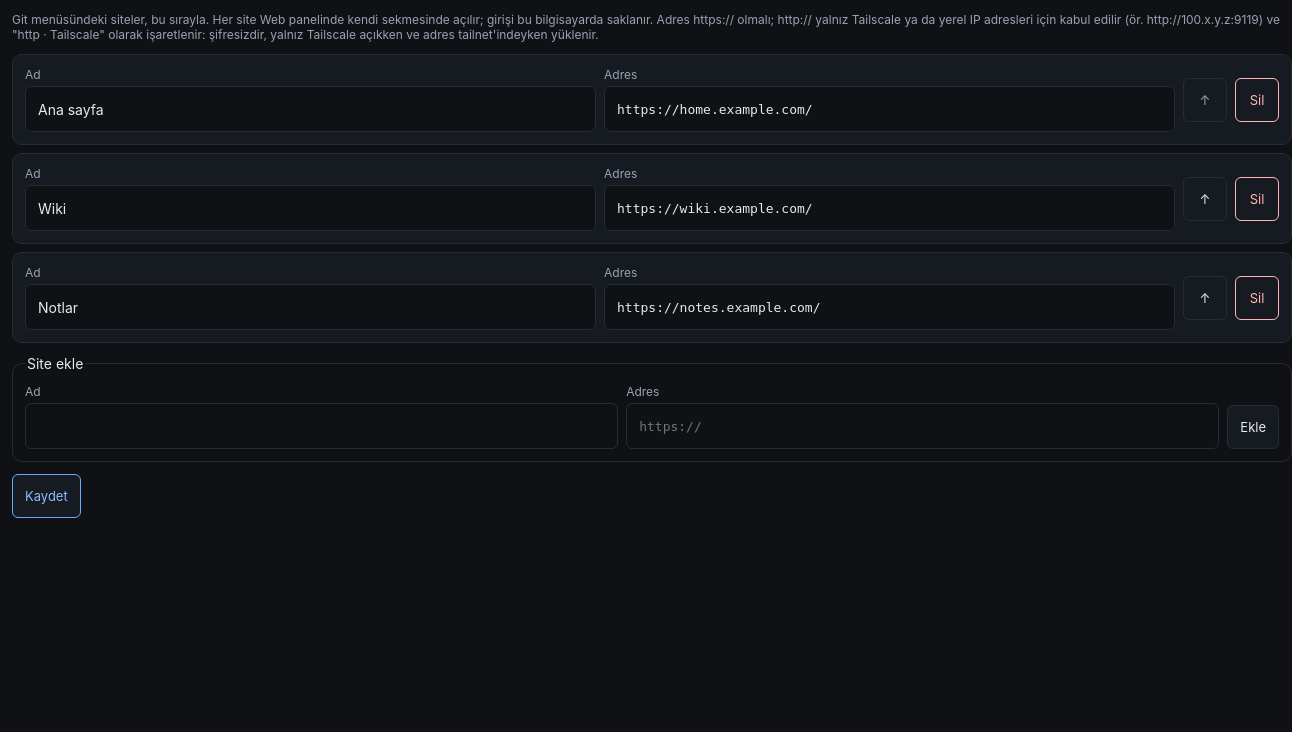
it: Ayarlar › Siteler (İş M) › adds a site (id from its host), edits one, removes one, moves one up, and saves the list
Type "Grafana" into the field labelled "Ad" below "Site ekle" at (322, 426), box x1=25 y1=403 x2=618 y2=449
Type "https://grafana.example.com/" into the 4th field labelled "Adres" at (923, 426), box x1=626 y1=403 x2=1219 y2=449
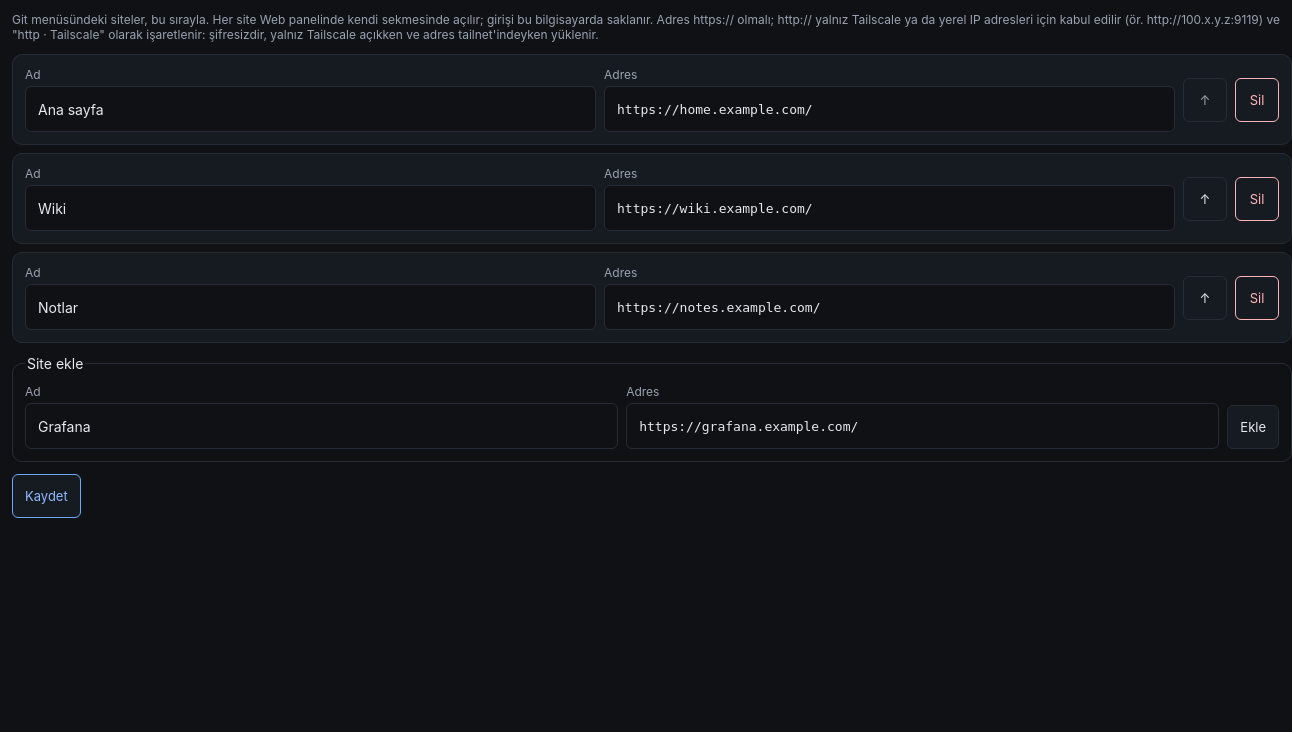
Click the button "Ekle" at (1253, 427), box x1=1227 y1=405 x2=1279 y2=449
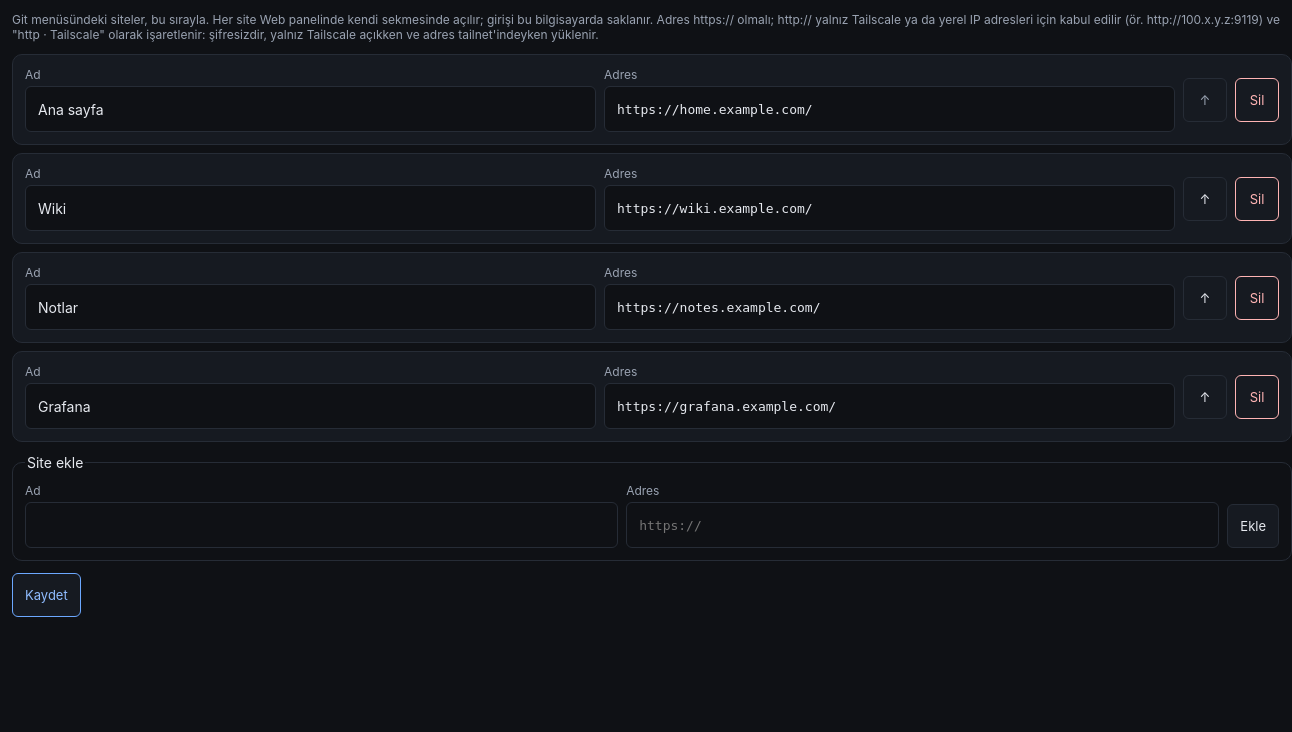
Replace the text in the 2nd field labelled "Ad" with "Bilgi" at (310, 208), box x1=25 y1=185 x2=596 y2=231
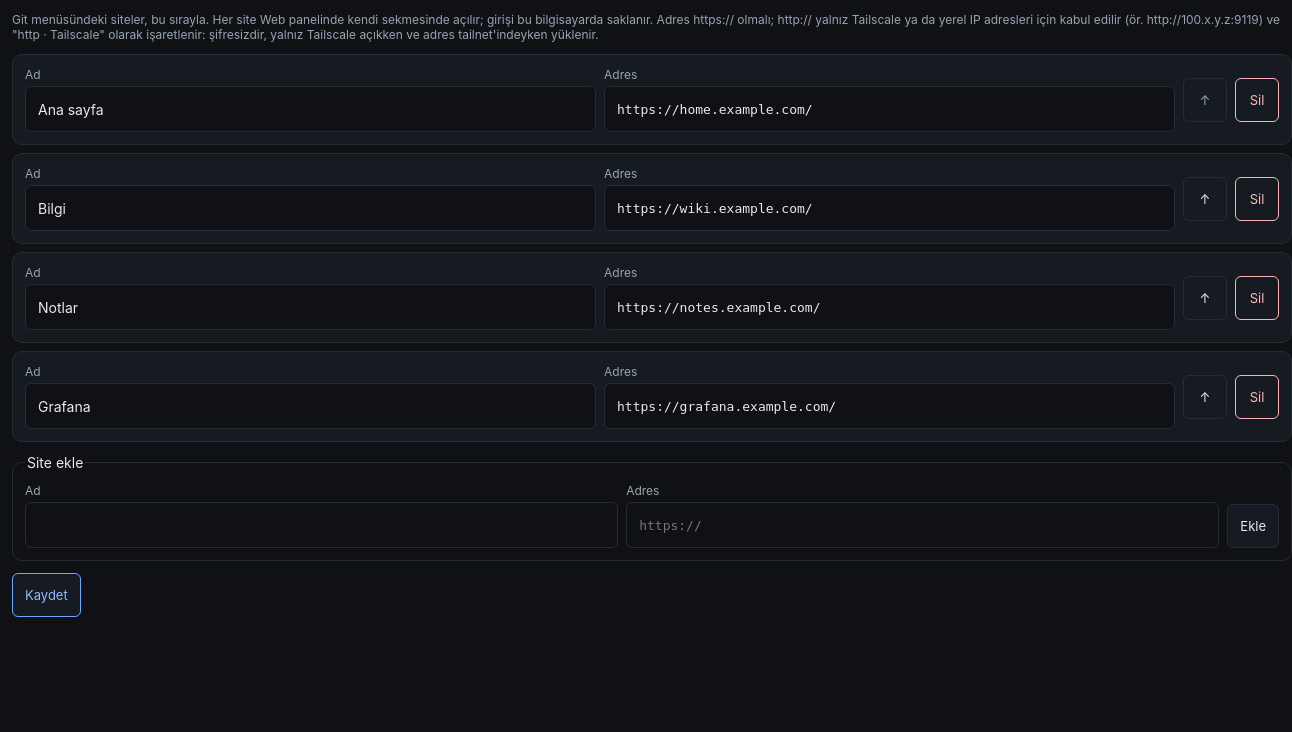
Click the button with aria-label "Sil: Notlar" at (1257, 298), box x1=1235 y1=276 x2=1279 y2=320
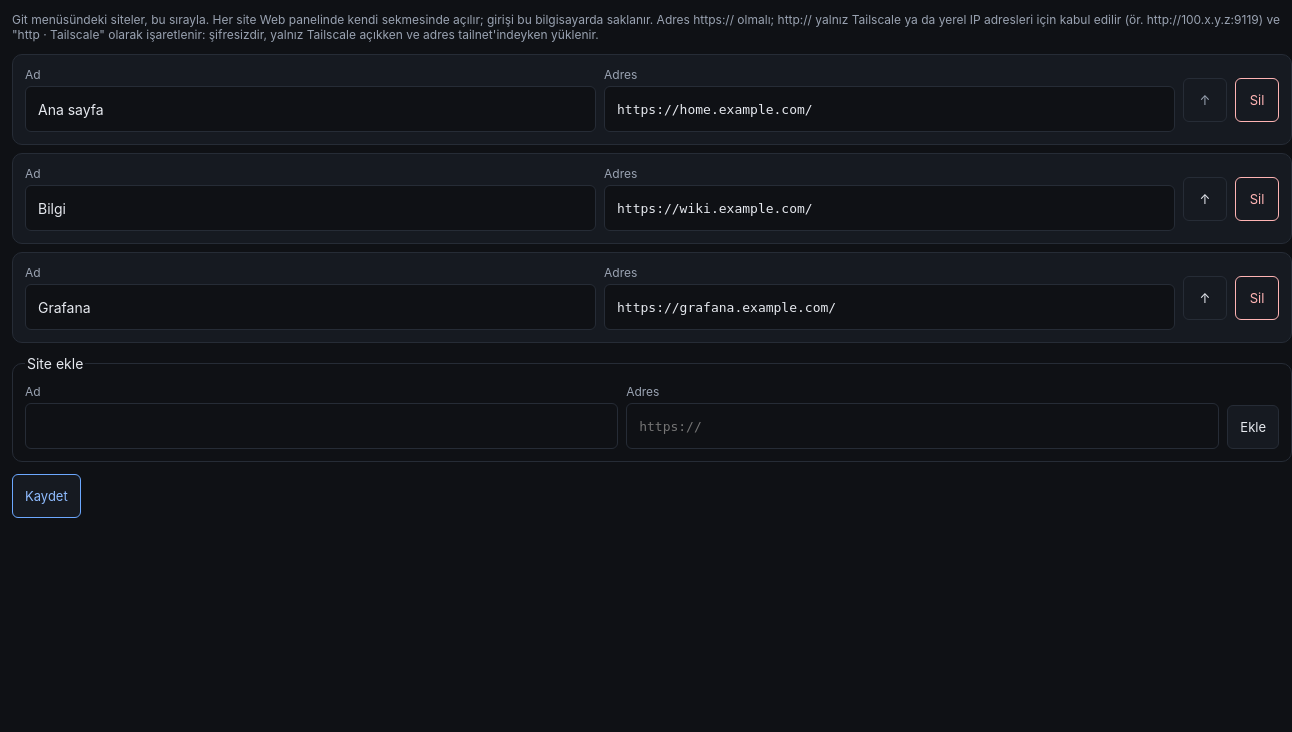
Click the button named "Yukarı: Grafana" at (1205, 298), box x1=1183 y1=276 x2=1227 y2=320
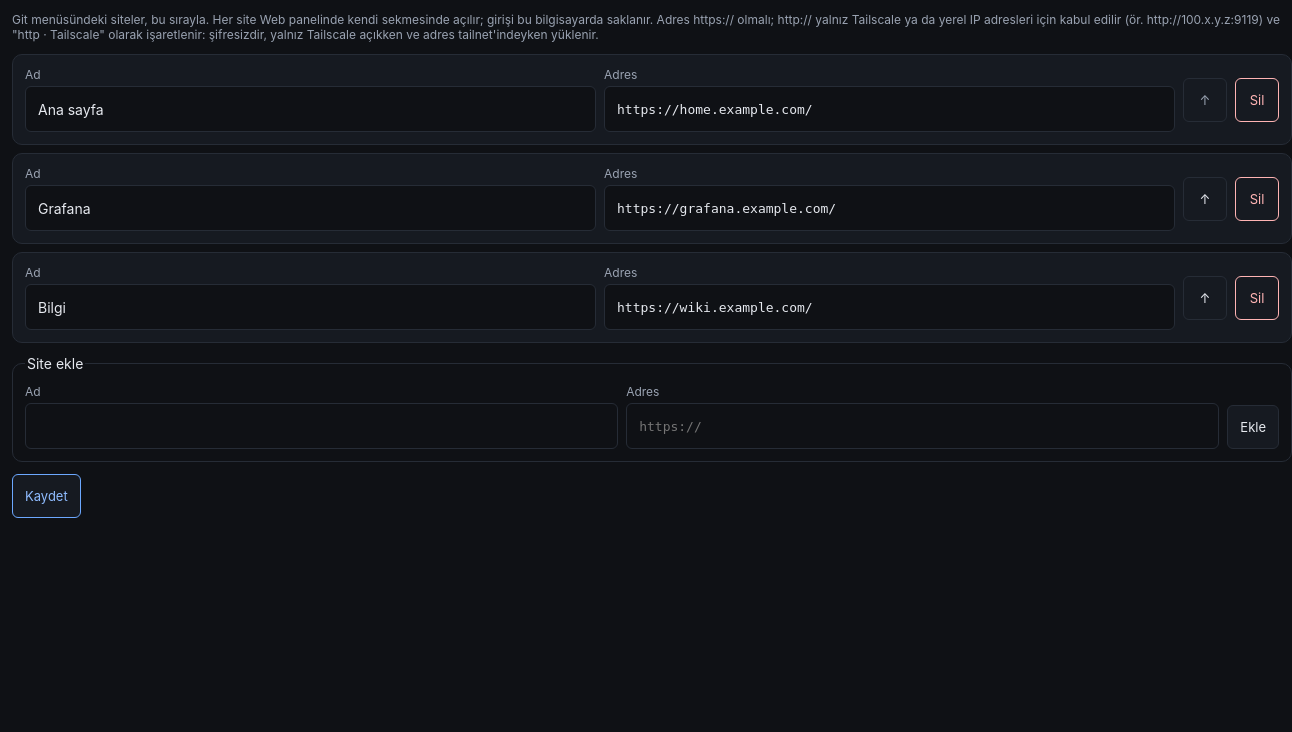
Click the button "Kaydet" at (46, 496), box x1=12 y1=474 x2=81 y2=518
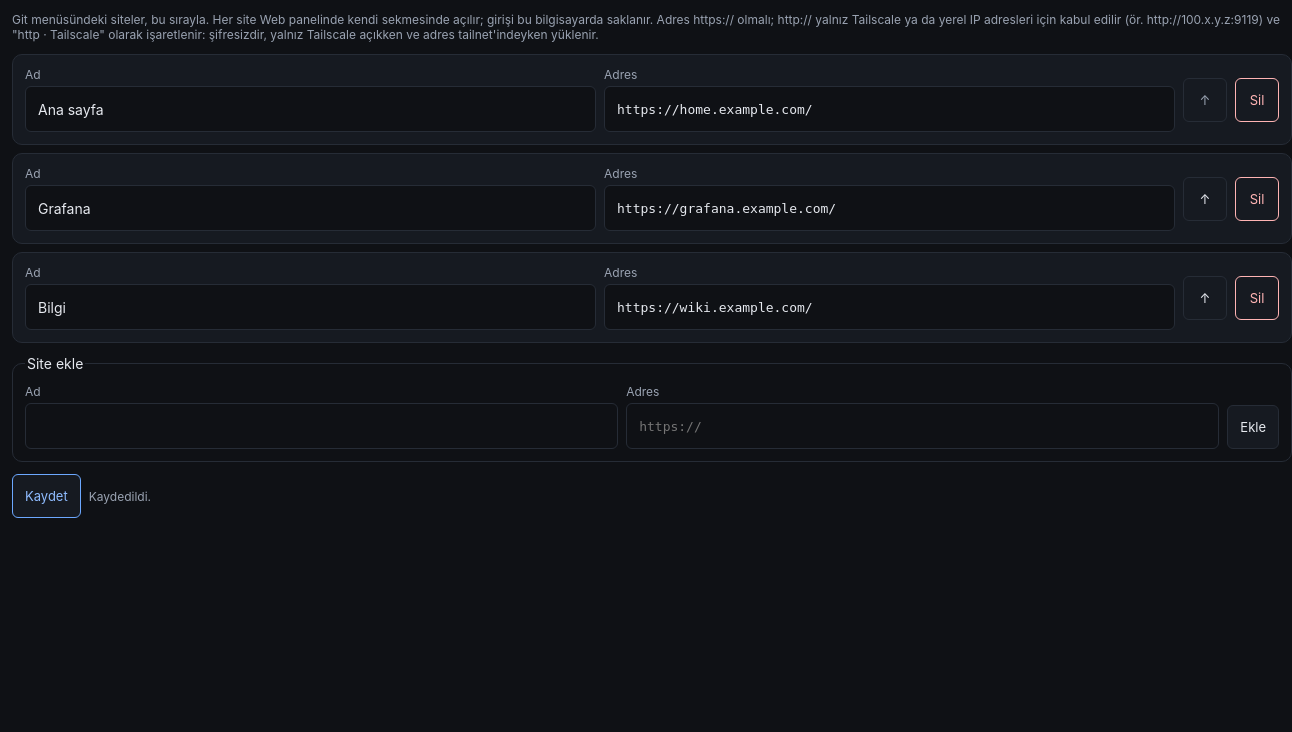
expect the message reads "Kaydedildi.": met, box x1=89 y1=488 x2=151 y2=504
